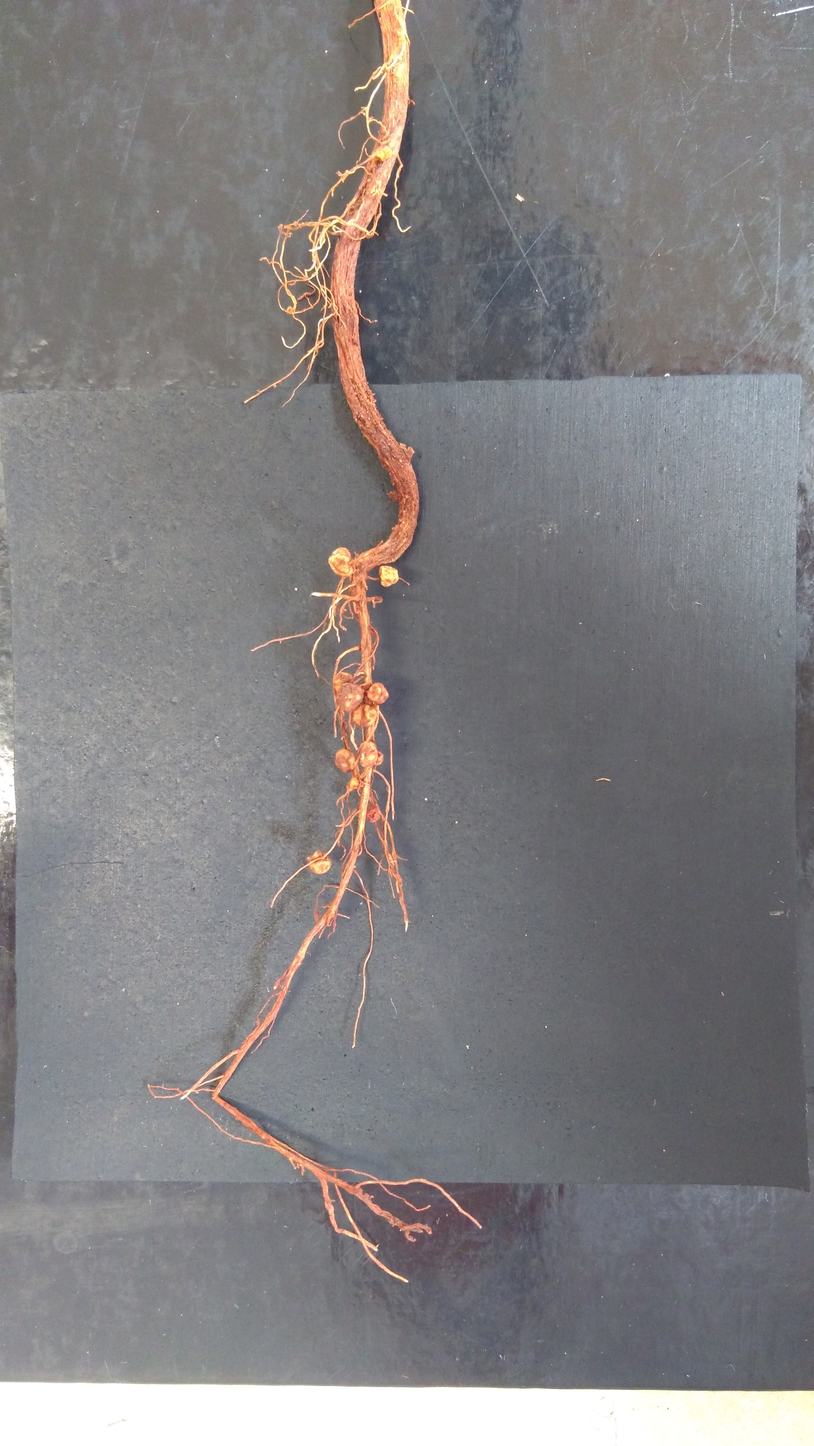nodule: (337, 683, 364, 711), (328, 547, 353, 577), (307, 850, 332, 874), (352, 704, 377, 727), (357, 741, 378, 767), (366, 682, 389, 704), (335, 748, 355, 773), (379, 566, 399, 588), (334, 672, 352, 691), (375, 146, 393, 162), (366, 806, 380, 823), (386, 490, 398, 502), (375, 750, 384, 765), (350, 778, 360, 790), (286, 305, 292, 314)
